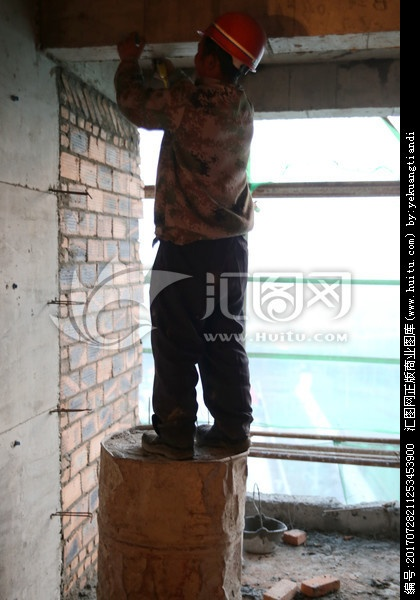yellow: (191, 15, 266, 82)
